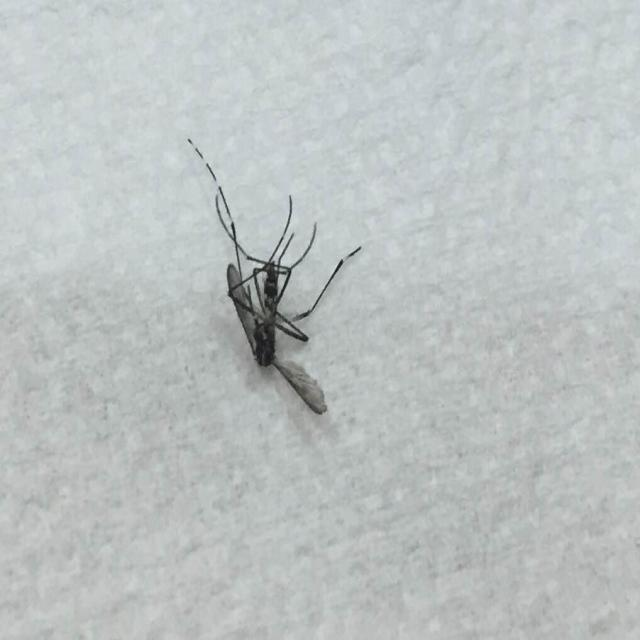albopictus: (188, 130, 361, 414)
